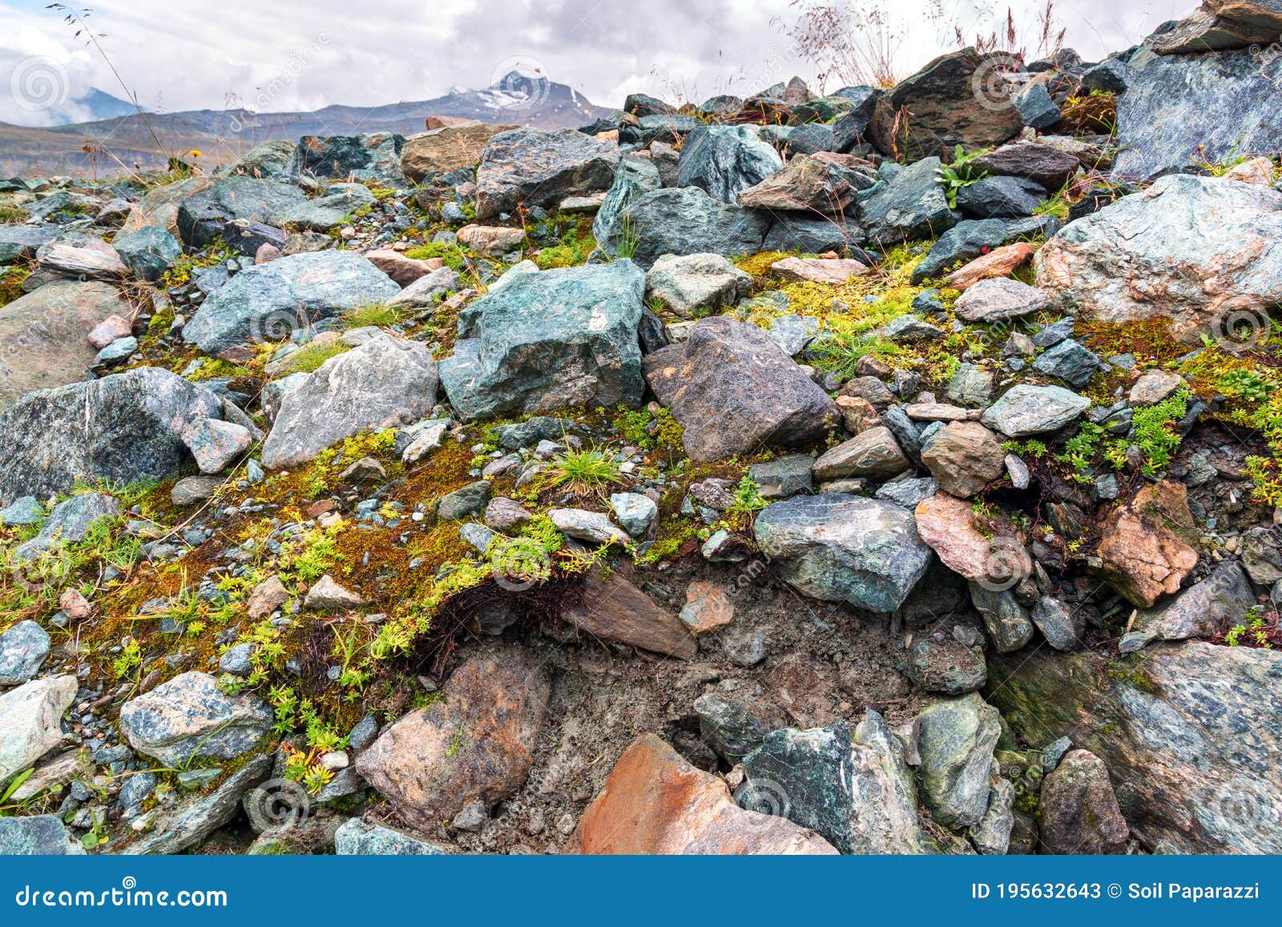Chaise: (154, 177, 363, 449)
